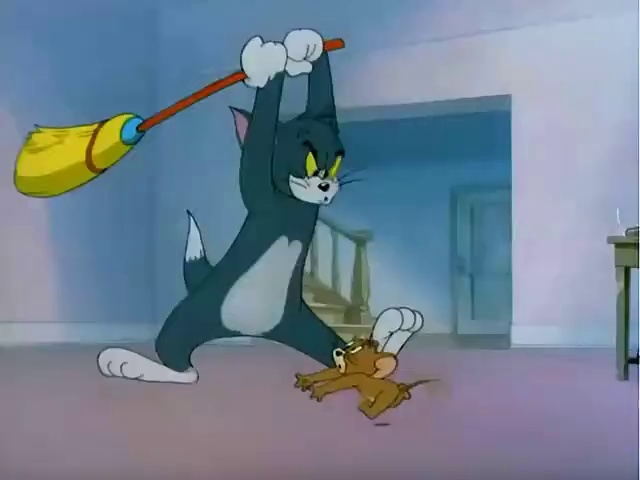jerry: (274, 322, 481, 417)
tom: (91, 27, 442, 374)
